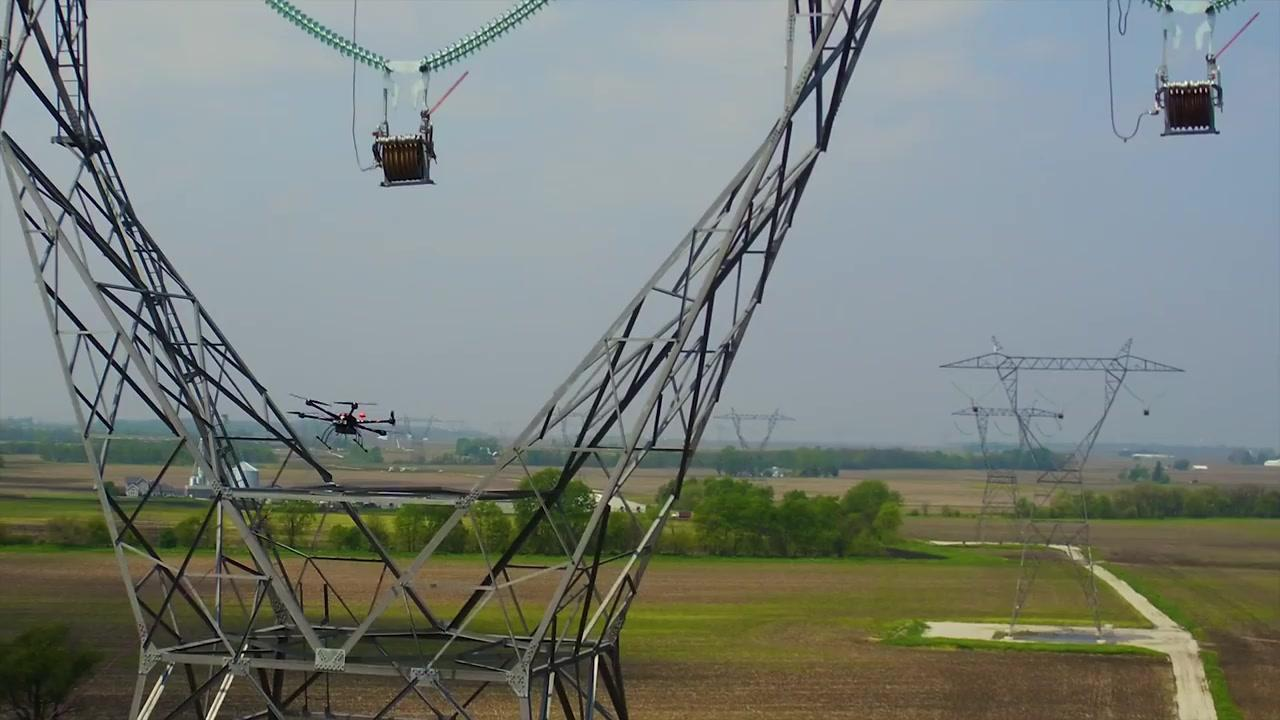UAV: (287, 391, 397, 454)
